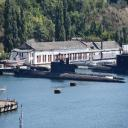submarine: (13, 58, 127, 84)
